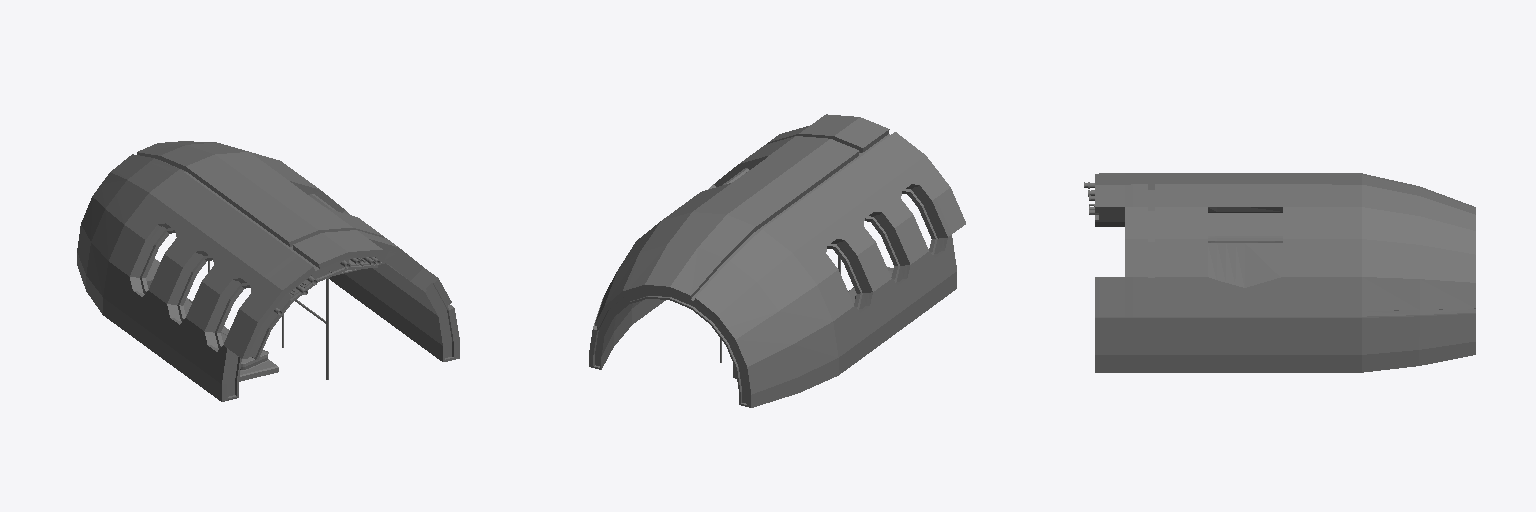
Rendered from hull.obj.
3 renders of one model, left to right at view 1: azimuth 30°, elevation 25°; view 2: azimuth 150°, elevation 25°; view 3: azimuth 270°, elevation 25°, orthographic.
Parts seen in each view (by area): view 1: AirFrame, bedAndSupport, PipePipes; view 2: AirFrame; view 3: AirFrame.
Boxes of the visible parts, x1=… form: AirFrame: x1=77, y1=141, x2=459, y2=401; bedAndSupport: x1=146, y1=259, x2=278, y2=381; PipePipes: x1=208, y1=257, x2=384, y2=379; AirFrame: x1=589, y1=114, x2=965, y2=407; AirFrame: x1=1095, y1=173, x2=1475, y2=372.
Size of the model in its own units: 39.43 by 24.09 by 59.96.